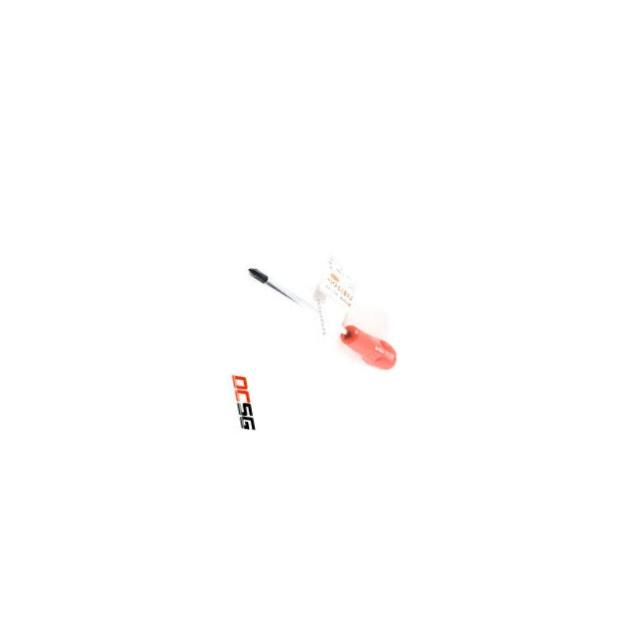screwdriver: (246, 244, 400, 392)
